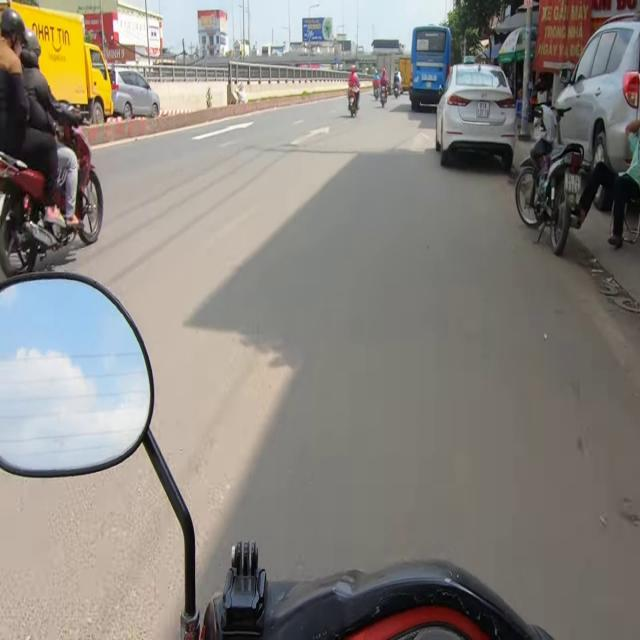bien_trang: (566, 172, 580, 194), (476, 100, 490, 119)
